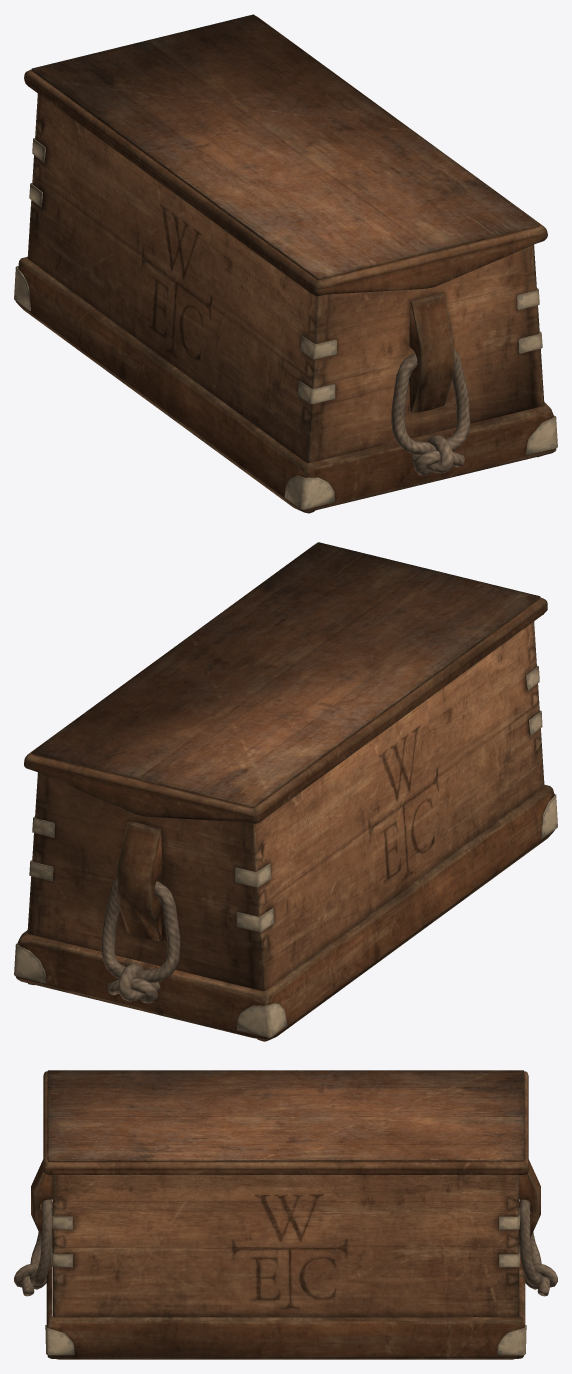
File: wooden_crate_02.gltf
The picture shows the model from 3 angles, top to bottom: view 1: azimuth 30°, elevation 25°; view 2: azimuth 150°, elevation 25°; view 3: azimuth 270°, elevation 25°; orthographic projection. The views are drawn at different scales.
Visible parts, largest first — view 1: wooden_crate_02_crate, wooden_crate_02_lid; view 2: wooden_crate_02_crate, wooden_crate_02_lid; view 3: wooden_crate_02_crate, wooden_crate_02_lid.
Boxes of the visible parts, box(x1,y1,x2,y2) form: wooden_crate_02_crate: box(14, 93, 557, 513); wooden_crate_02_lid: box(24, 14, 547, 296); wooden_crate_02_crate: box(14, 621, 557, 1041); wooden_crate_02_lid: box(24, 542, 547, 823); wooden_crate_02_crate: box(14, 1159, 557, 1359); wooden_crate_02_lid: box(43, 1070, 528, 1174).
Bounding box in the file's own units: 0.5291 × 0.464 × 1.17.
Materials: 1 (1 with a texture image).
